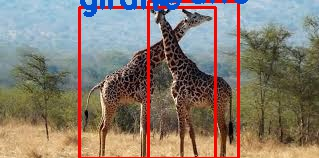giraffe: (79, 7, 214, 158), (148, 1, 238, 158)
